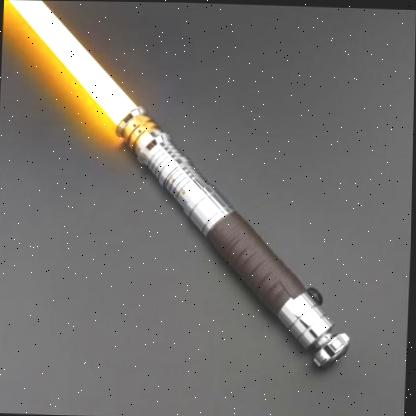lightsaber: (0, 0, 371, 379)
